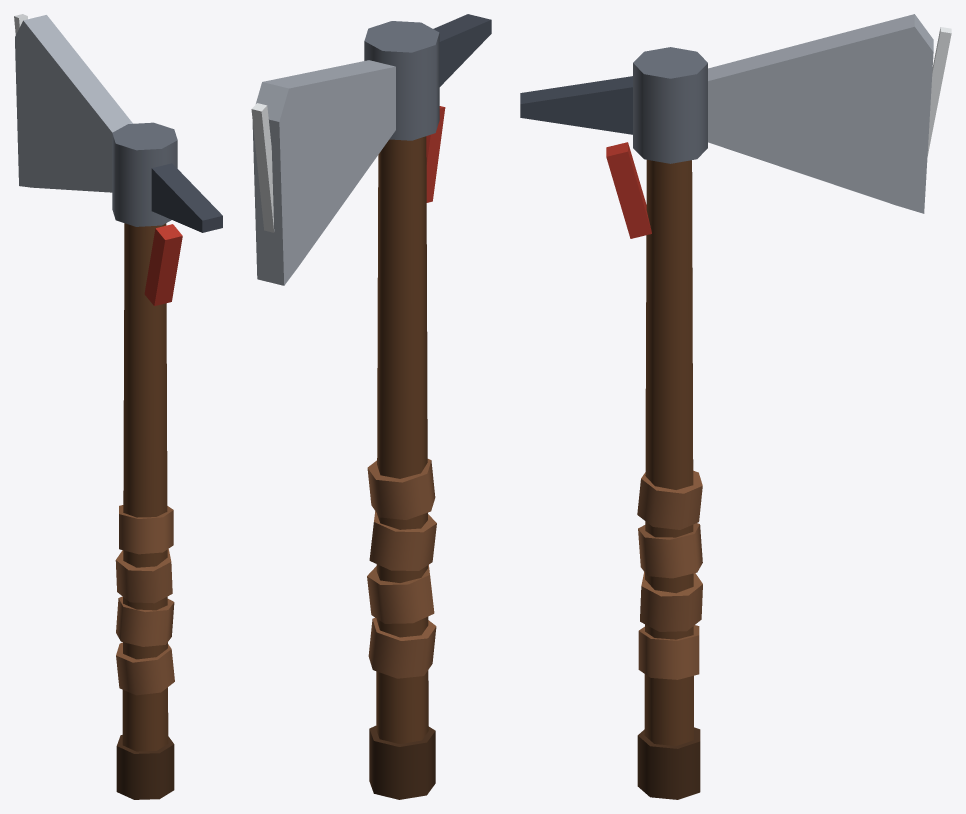
File: tool_throwing.glb
3 renders of one model, left to right at view 1: azimuth 30°, elevation 25°; view 2: azimuth 150°, elevation 25°; view 3: azimuth 270°, elevation 25°, orthographic. The views are drawn at different scales.
Parts seen in each view (by area): view 1: _MeshInstance3D_834, _MeshInstance3D_841, _MeshInstance3D_840, _MeshInstance3D_843, _MeshInstance3D_835, _MeshInstance3D_844, _MeshInstance3D_837, _MeshInstance3D_836, _MeshInstance3D_838, _MeshInstance3D_839; view 2: _MeshInstance3D_834, _MeshInstance3D_841, _MeshInstance3D_840, _MeshInstance3D_835, _MeshInstance3D_839, _MeshInstance3D_836, _MeshInstance3D_838, _MeshInstance3D_837, _MeshInstance3D_843, _MeshInstance3D_842, _MeshInstance3D_844; view 3: _MeshInstance3D_841, _MeshInstance3D_834, _MeshInstance3D_840, _MeshInstance3D_843, _MeshInstance3D_835, _MeshInstance3D_839, _MeshInstance3D_838, _MeshInstance3D_836, _MeshInstance3D_837, _MeshInstance3D_844, _MeshInstance3D_842.
Part boxes in pixels (left/top/right/bottom): _MeshInstance3D_834: left=122, top=223, right=168, bottom=751; _MeshInstance3D_841: left=15, top=15, right=132, bottom=192; _MeshInstance3D_840: left=112, top=122, right=177, bottom=226; _MeshInstance3D_843: left=151, top=163, right=222, bottom=232; _MeshInstance3D_835: left=116, top=735, right=174, bottom=799; _MeshInstance3D_844: left=144, top=224, right=182, bottom=305; _MeshInstance3D_837: left=116, top=596, right=174, bottom=646; _MeshInstance3D_836: left=116, top=642, right=174, bottom=695; _MeshInstance3D_838: left=115, top=549, right=172, bottom=603; _MeshInstance3D_839: left=119, top=505, right=173, bottom=554; _MeshInstance3D_834: left=376, top=136, right=428, bottom=743; _MeshInstance3D_841: left=252, top=60, right=395, bottom=285; _MeshInstance3D_840: left=364, top=21, right=439, bottom=140; _MeshInstance3D_835: left=369, top=725, right=435, bottom=799; _MeshInstance3D_839: left=367, top=459, right=435, bottom=519; _MeshInstance3D_836: left=368, top=617, right=436, bottom=678; _MeshInstance3D_838: left=369, top=511, right=436, bottom=570; _MeshInstance3D_837: left=367, top=565, right=434, bottom=623; _MeshInstance3D_843: left=433, top=14, right=491, bottom=86; _MeshInstance3D_842: left=251, top=103, right=274, bottom=232; _MeshInstance3D_844: left=426, top=106, right=445, bottom=202; _MeshInstance3D_841: left=708, top=14, right=933, bottom=213; _MeshInstance3D_834: left=644, top=160, right=693, bottom=745; _MeshInstance3D_840: left=633, top=47, right=707, bottom=163; _MeshInstance3D_843: left=520, top=76, right=632, bottom=134; _MeshInstance3D_835: left=637, top=727, right=700, bottom=799; _MeshInstance3D_839: left=637, top=470, right=702, bottom=529; _MeshInstance3D_838: left=638, top=523, right=702, bottom=578; _MeshInstance3D_836: left=638, top=625, right=699, bottom=679; _MeshInstance3D_837: left=640, top=572, right=702, bottom=631; _MeshInstance3D_844: left=606, top=142, right=651, bottom=238; _MeshInstance3D_842: left=927, top=27, right=951, bottom=157.
Size of the model in its own units: 0.04 by 0.45 by 0.2296.
